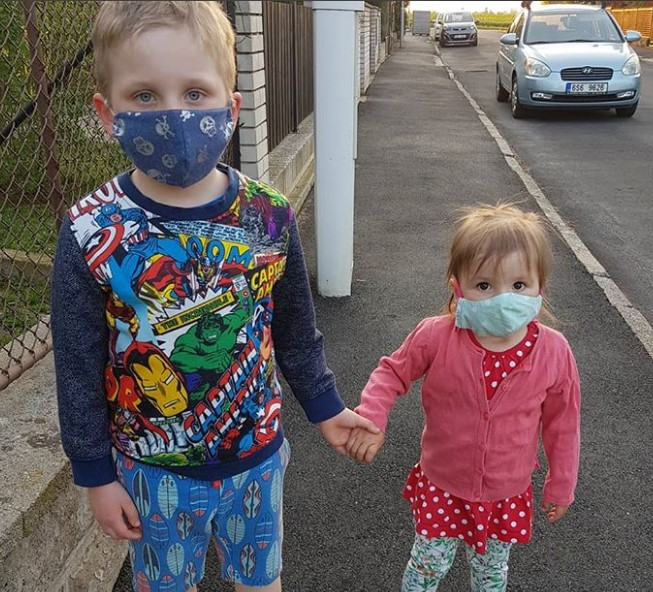face_with_mask: (96, 10, 237, 190), (453, 203, 548, 341)
